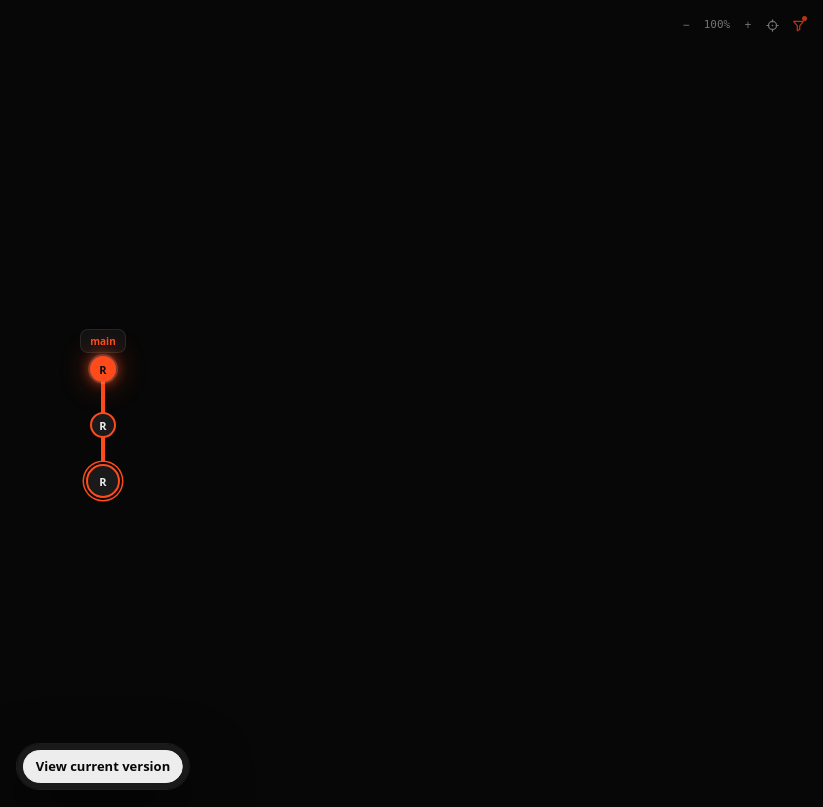
VersionGraph › zooms from the top right; the crosshair goes back to 100% and to where you are
The width and height of the screenshot is (823, 807).
Click the button named "Zoom in" at (748, 25), box x1=737 y1=14 x2=759 y2=36
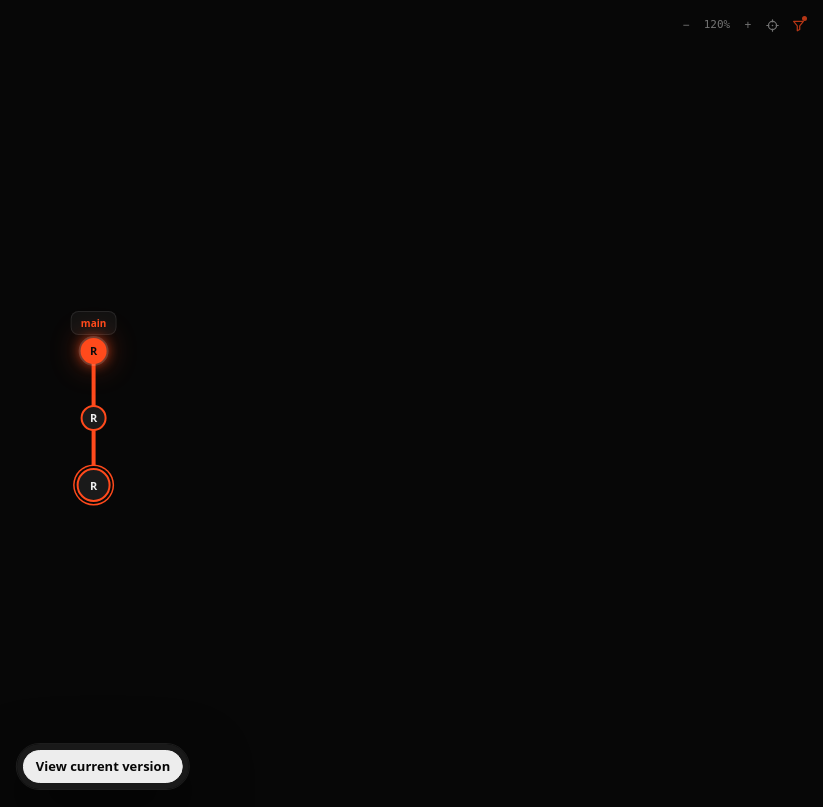
Now the button titled "Back to 100%" reads "120%", box x1=697 y1=14 x2=737 y2=36
Click the button named "Back to 100% and to where you are" at (772, 25), box x1=761 y1=14 x2=783 y2=36
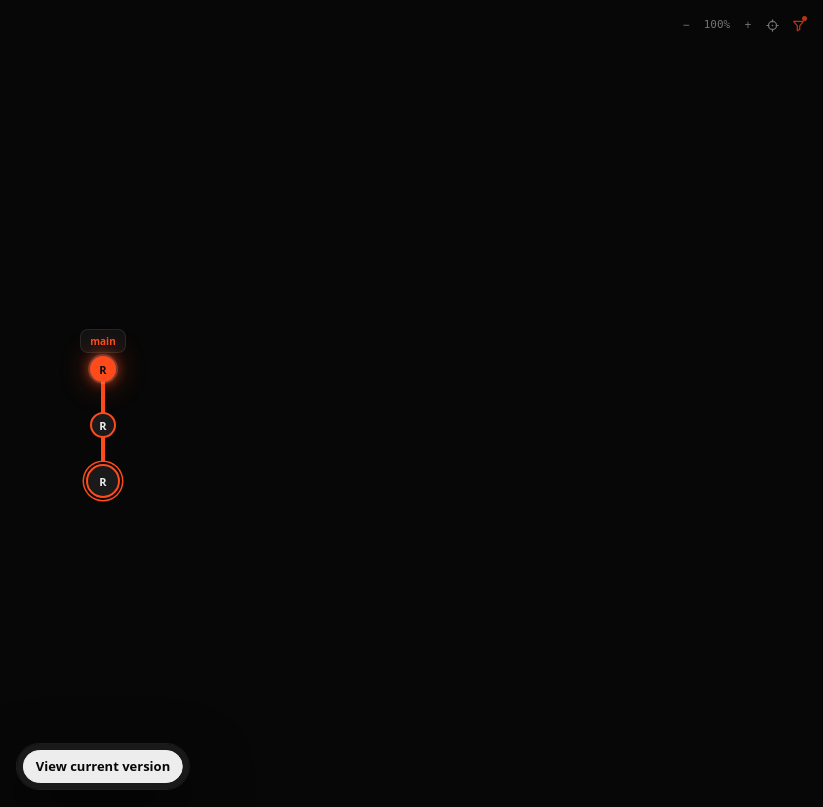
Now the button titled "Back to 100%" is shown, box x1=697 y1=14 x2=737 y2=36
